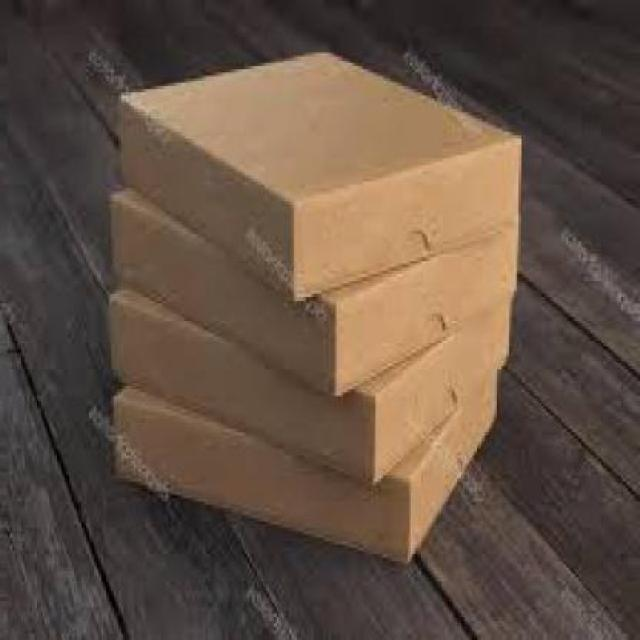CARDBOARD: (121, 49, 524, 297), (114, 185, 523, 392), (114, 363, 501, 560), (111, 294, 517, 478)
